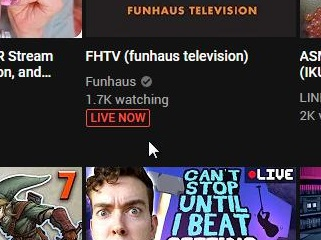cursor: (147, 140, 160, 160)
